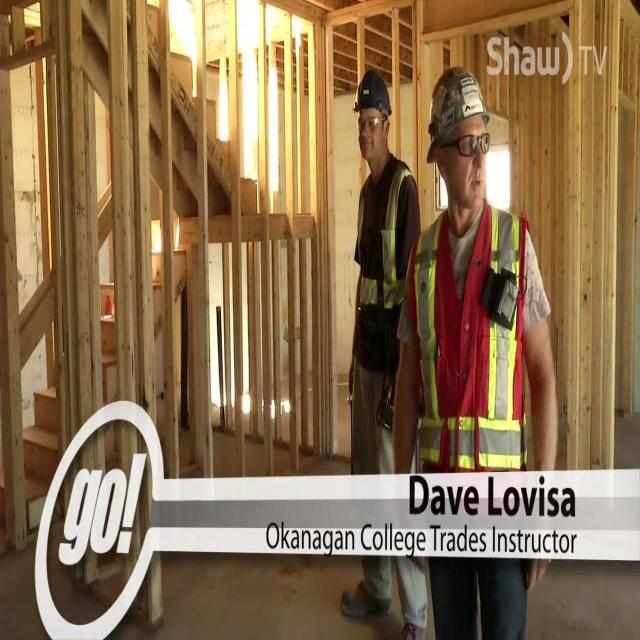vest: (409, 196, 530, 469), (356, 164, 416, 308)
